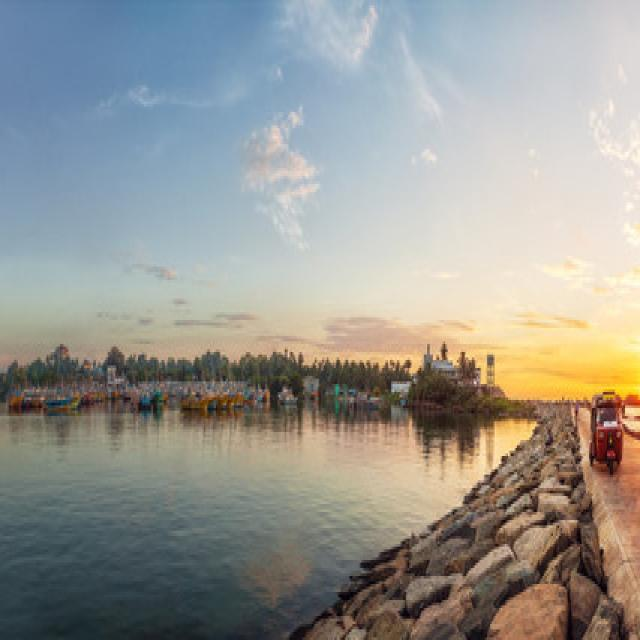three wheeler: (589, 392, 622, 475)
